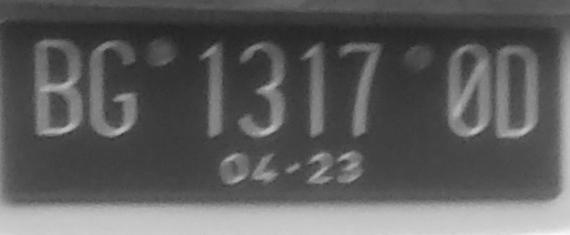1: (288, 35, 334, 142), (200, 36, 228, 140)
3: (228, 35, 290, 139)
7: (332, 35, 384, 142)
B: (28, 35, 86, 139)
D: (492, 36, 540, 136)
G: (86, 33, 140, 138)
O: (445, 37, 493, 138)
